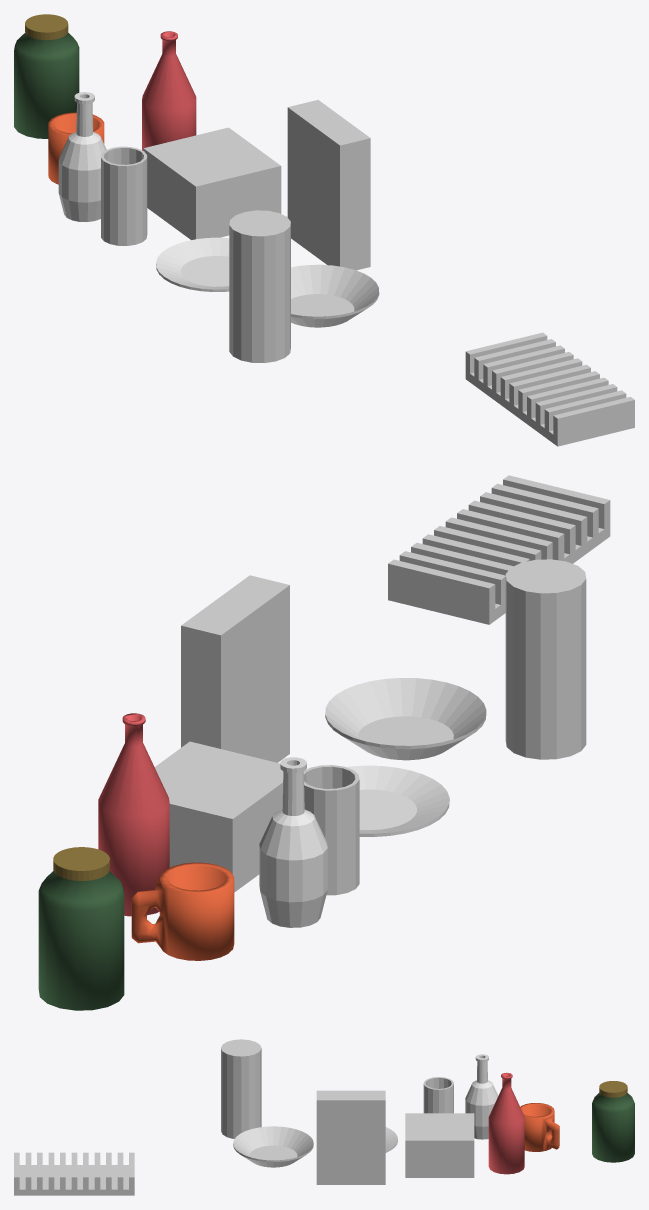
The model's file is Kitchenware1.fbx.
3 views of the same model, one above another, from view 1: azimuth 30°, elevation 25°; view 2: azimuth 150°, elevation 25°; view 3: azimuth 270°, elevation 25° (orthographic). The views are drawn at different scales.
Parts seen in each view (by area): view 1: Box2, DishStand, Box1, Bottle3, Jar1, Dish2, Glass, Bottle1, Bottle2, Dish1, Mug; view 2: DishStand, Box2, Bottle3, Jar1, Box1, Dish2, Bottle1, Bottle2, Mug, Glass, Dish1; view 3: Box2, DishStand, Box1, Bottle3, Jar1, Bottle1, Dish2, Bottle2, Mug, Glass, Dish1.
Boxes of the visible parts, x1=… form: Box2: x1=287, y1=100, x2=370, y2=270; DishStand: x1=465, y1=332, x2=634, y2=446; Box1: x1=143, y1=127, x2=281, y2=239; Bottle3: x1=229, y1=210, x2=290, y2=362; Jar1: x1=14, y1=14, x2=79, y2=138; Dish2: x1=291, y1=264, x2=379, y2=327; Glass: x1=101, y1=146, x2=147, y2=245; Bottle1: x1=142, y1=31, x2=196, y2=150; Bottle2: x1=58, y1=92, x2=106, y2=221; Dish1: x1=156, y1=237, x2=229, y2=291; Mug: x1=48, y1=112, x2=104, y2=184; DishStand: x1=388, y1=475, x2=610, y2=624; Box2: x1=181, y1=575, x2=289, y2=762; Bottle3: x1=505, y1=559, x2=586, y2=759; Jar1: x1=38, y1=847, x2=124, y2=1010; Box1: x1=154, y1=741, x2=283, y2=892; Dish2: x1=325, y1=678, x2=486, y2=760; Bottle1: x1=98, y1=713, x2=169, y2=916; Bottle2: x1=259, y1=757, x2=327, y2=927; Mug: x1=131, y1=862, x2=234, y2=960; Glass: x1=303, y1=765, x2=359, y2=895; Dish1: x1=346, y1=765, x2=449, y2=836; Box2: x1=316, y1=1090, x2=385, y2=1184; DishStand: x1=14, y1=1152, x2=134, y2=1195; Box1: x1=405, y1=1113, x2=474, y2=1177; Bottle3: x1=221, y1=1039, x2=261, y2=1138; Jar1: x1=592, y1=1081, x2=634, y2=1162; Bottle1: x1=488, y1=1072, x2=524, y2=1174; Dish2: x1=233, y1=1126, x2=313, y2=1167; Bottle2: x1=465, y1=1054, x2=498, y2=1139; Mug: x1=520, y1=1103, x2=559, y2=1151; Glass: x1=423, y1=1077, x2=453, y2=1113; Dish1: x1=385, y1=1127, x2=397, y2=1152.
Size of the model in its own units: 177 by 49.3 by 28.8.
